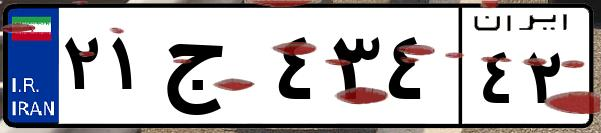1: (110, 28, 158, 98)
2: (57, 26, 110, 100), (525, 38, 570, 115)
3: (330, 28, 385, 110)
4: (270, 28, 330, 110), (385, 28, 445, 110), (475, 38, 525, 113)
ج: (158, 20, 270, 120)
